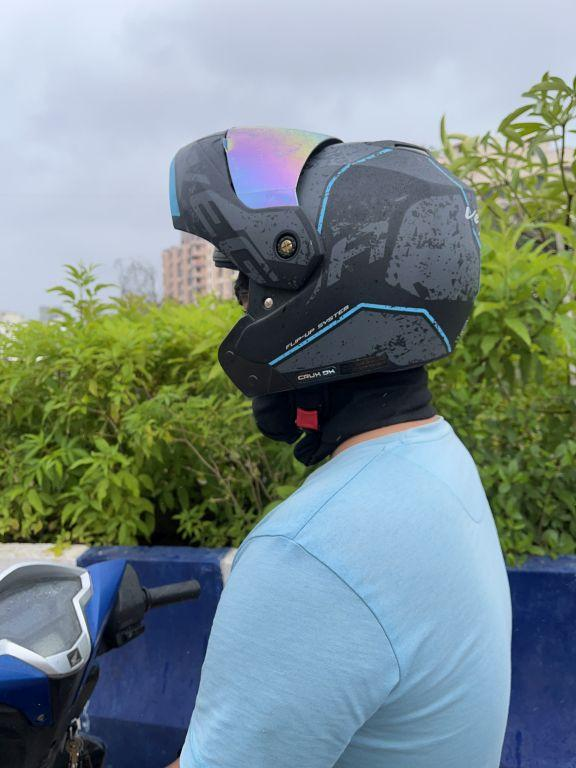helmet: (157, 115, 486, 418)
